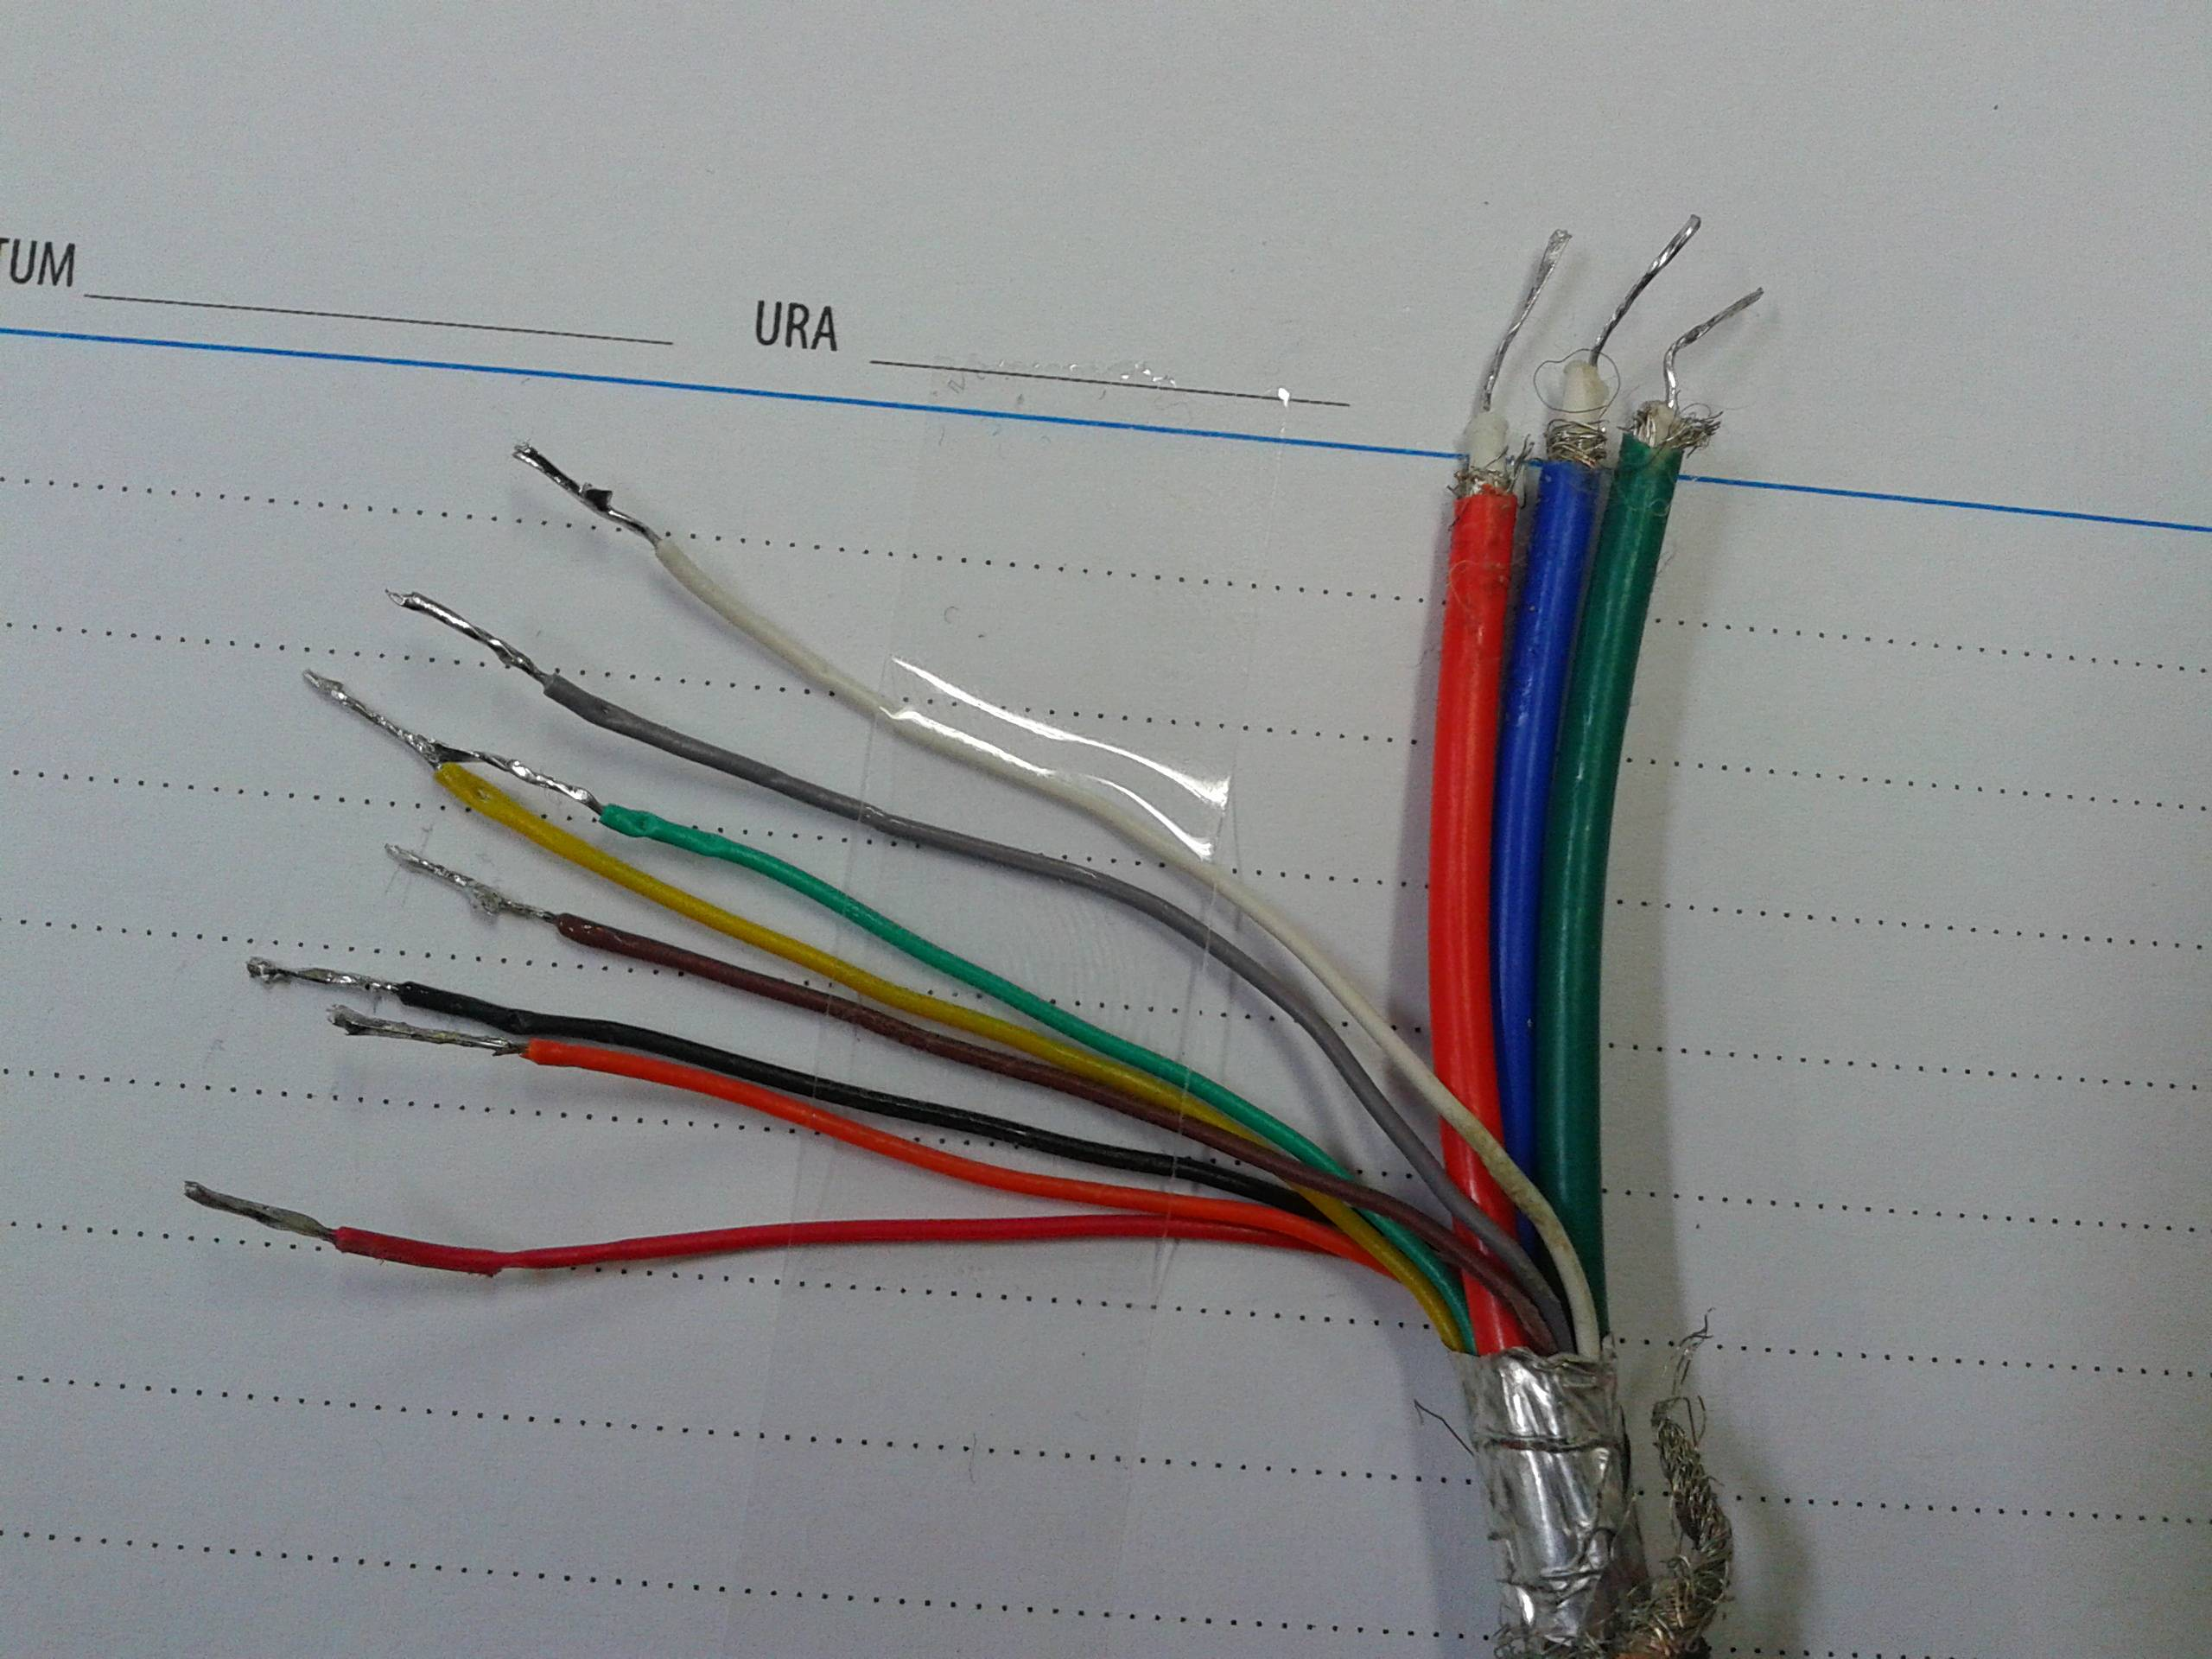Nonrec_Tangler: (139, 207, 1947, 1612)
